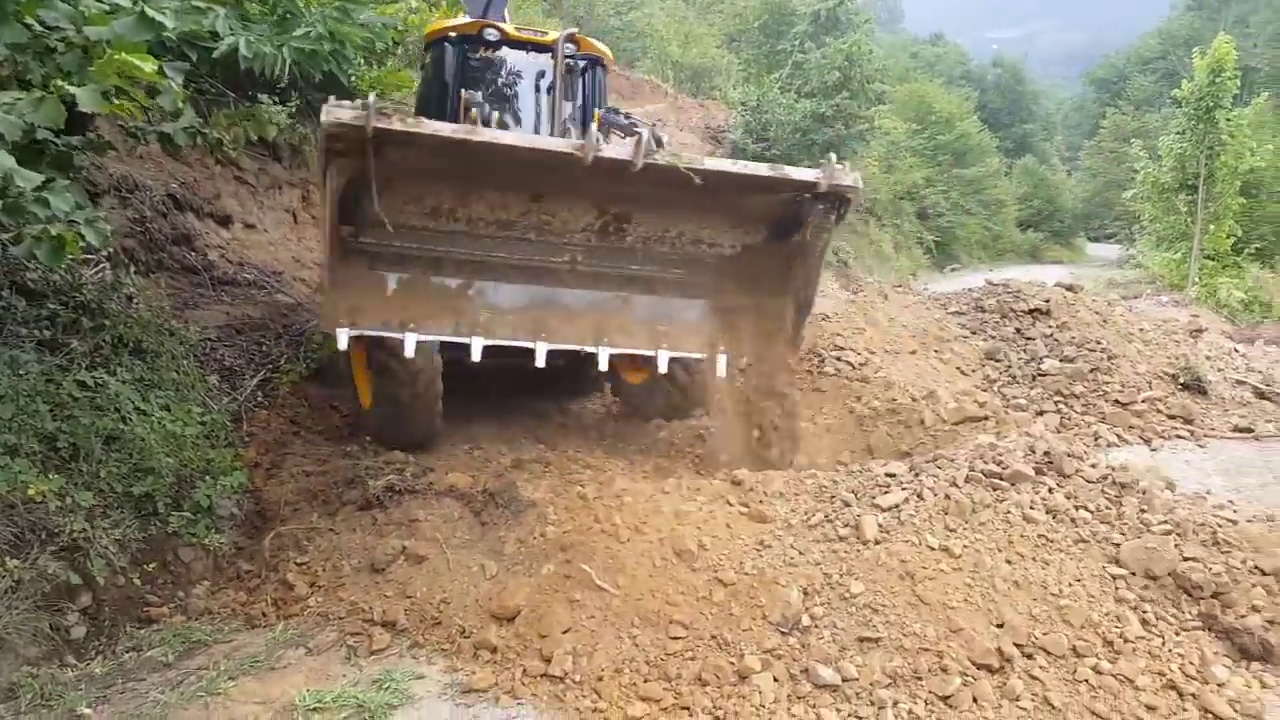wheel loader: (320, 2, 864, 454)
